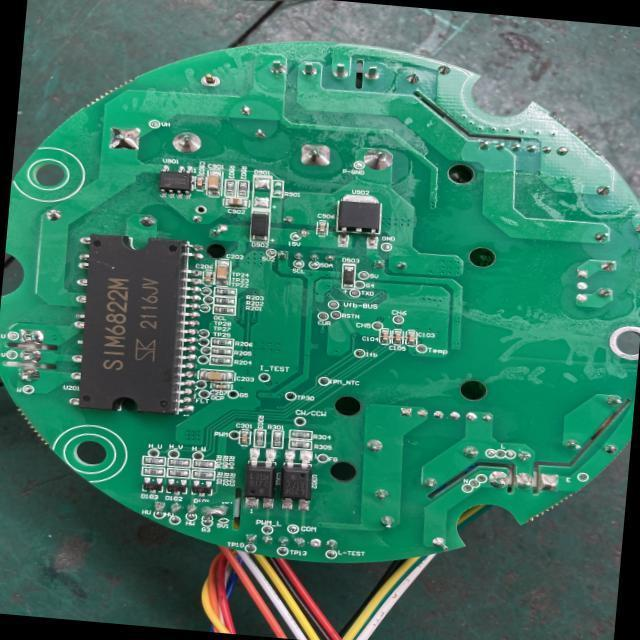damged: (198, 502, 233, 520)
